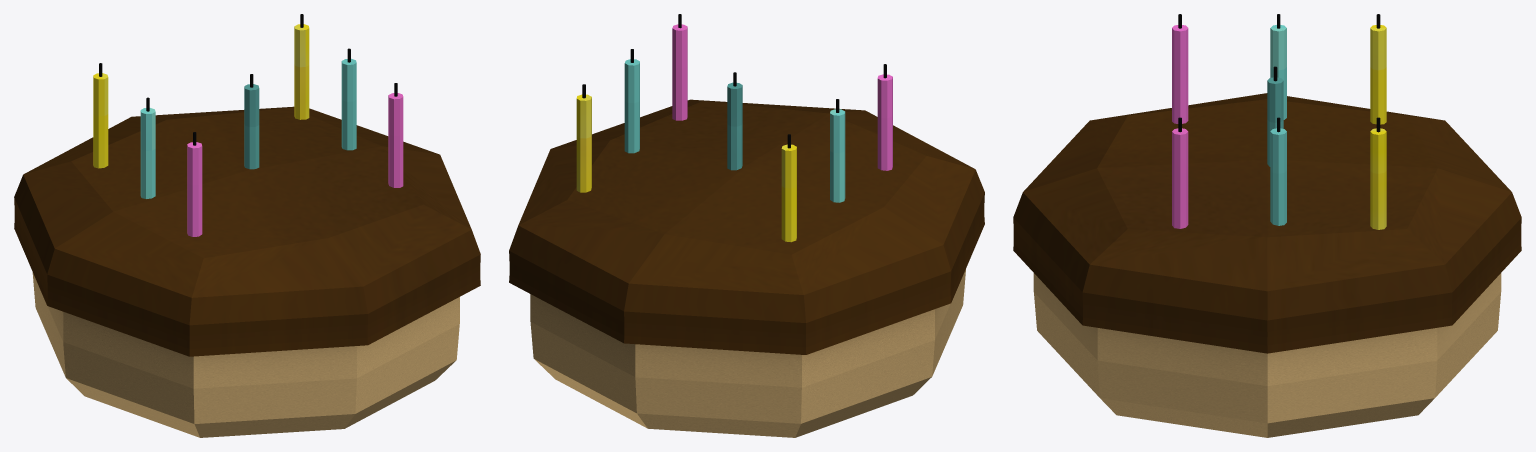
3 views of the same model, side by side, from view 1: azimuth 30°, elevation 25°; view 2: azimuth 150°, elevation 25°; view 3: azimuth 270°, elevation 25° (orthographic). The views are drawn at different scales.
Parts seen in each view (by area): view 1: node_334b0c23_11f8_4ed1_a723_6d13b652218e_mesh1, node_334b0c23_11f8_4ed1_a723_6d13b652218e_mesh0, node_334b0c23_11f8_4ed1_a723_6d13b652218e_mesh2; view 2: node_334b0c23_11f8_4ed1_a723_6d13b652218e_mesh1, node_334b0c23_11f8_4ed1_a723_6d13b652218e_mesh0, node_334b0c23_11f8_4ed1_a723_6d13b652218e_mesh2; view 3: node_334b0c23_11f8_4ed1_a723_6d13b652218e_mesh1, node_334b0c23_11f8_4ed1_a723_6d13b652218e_mesh0, node_334b0c23_11f8_4ed1_a723_6d13b652218e_mesh2.
Boxes of the visible parts, bbox=[...] form: node_334b0c23_11f8_4ed1_a723_6d13b652218e_mesh1: bbox=[14, 106, 480, 356]; node_334b0c23_11f8_4ed1_a723_6d13b652218e_mesh0: bbox=[32, 272, 459, 437]; node_334b0c23_11f8_4ed1_a723_6d13b652218e_mesh2: bbox=[93, 14, 403, 236]; node_334b0c23_11f8_4ed1_a723_6d13b652218e_mesh1: bbox=[509, 99, 984, 354]; node_334b0c23_11f8_4ed1_a723_6d13b652218e_mesh0: bbox=[530, 269, 965, 437]; node_334b0c23_11f8_4ed1_a723_6d13b652218e_mesh2: bbox=[576, 14, 892, 242]; node_334b0c23_11f8_4ed1_a723_6d13b652218e_mesh1: bbox=[1013, 93, 1521, 353]; node_334b0c23_11f8_4ed1_a723_6d13b652218e_mesh0: bbox=[1033, 273, 1501, 437]; node_334b0c23_11f8_4ed1_a723_6d13b652218e_mesh2: bbox=[1172, 14, 1386, 229].
Bounding box in the file's own units: 298 × 197 × 311.
Materials: 3 (3 with a texture image).
